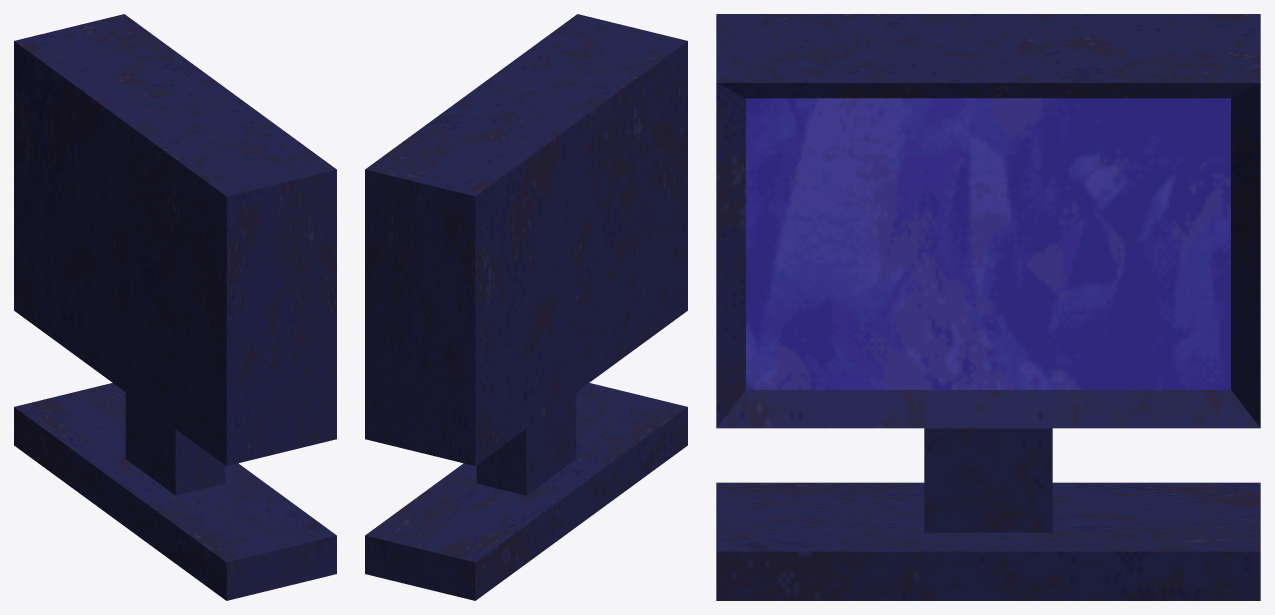
The model's file is MonitorBR.fbx.
3 renders of one model, left to right at view 1: azimuth 30°, elevation 25°; view 2: azimuth 150°, elevation 25°; view 3: azimuth 270°, elevation 25°, orthographic. The views are drawn at different scales.
Visible parts, largest first — view 1: Monitor; view 2: Monitor; view 3: Monitor.
Boxes of the visible parts, x1,y1,x2,y2 form: Monitor: [14, 14, 336, 600]; Monitor: [365, 14, 687, 600]; Monitor: [716, 14, 1260, 600].
Size of the model in its own units: 60 by 210 by 200.
Materials: 1 (1 with a texture image).
